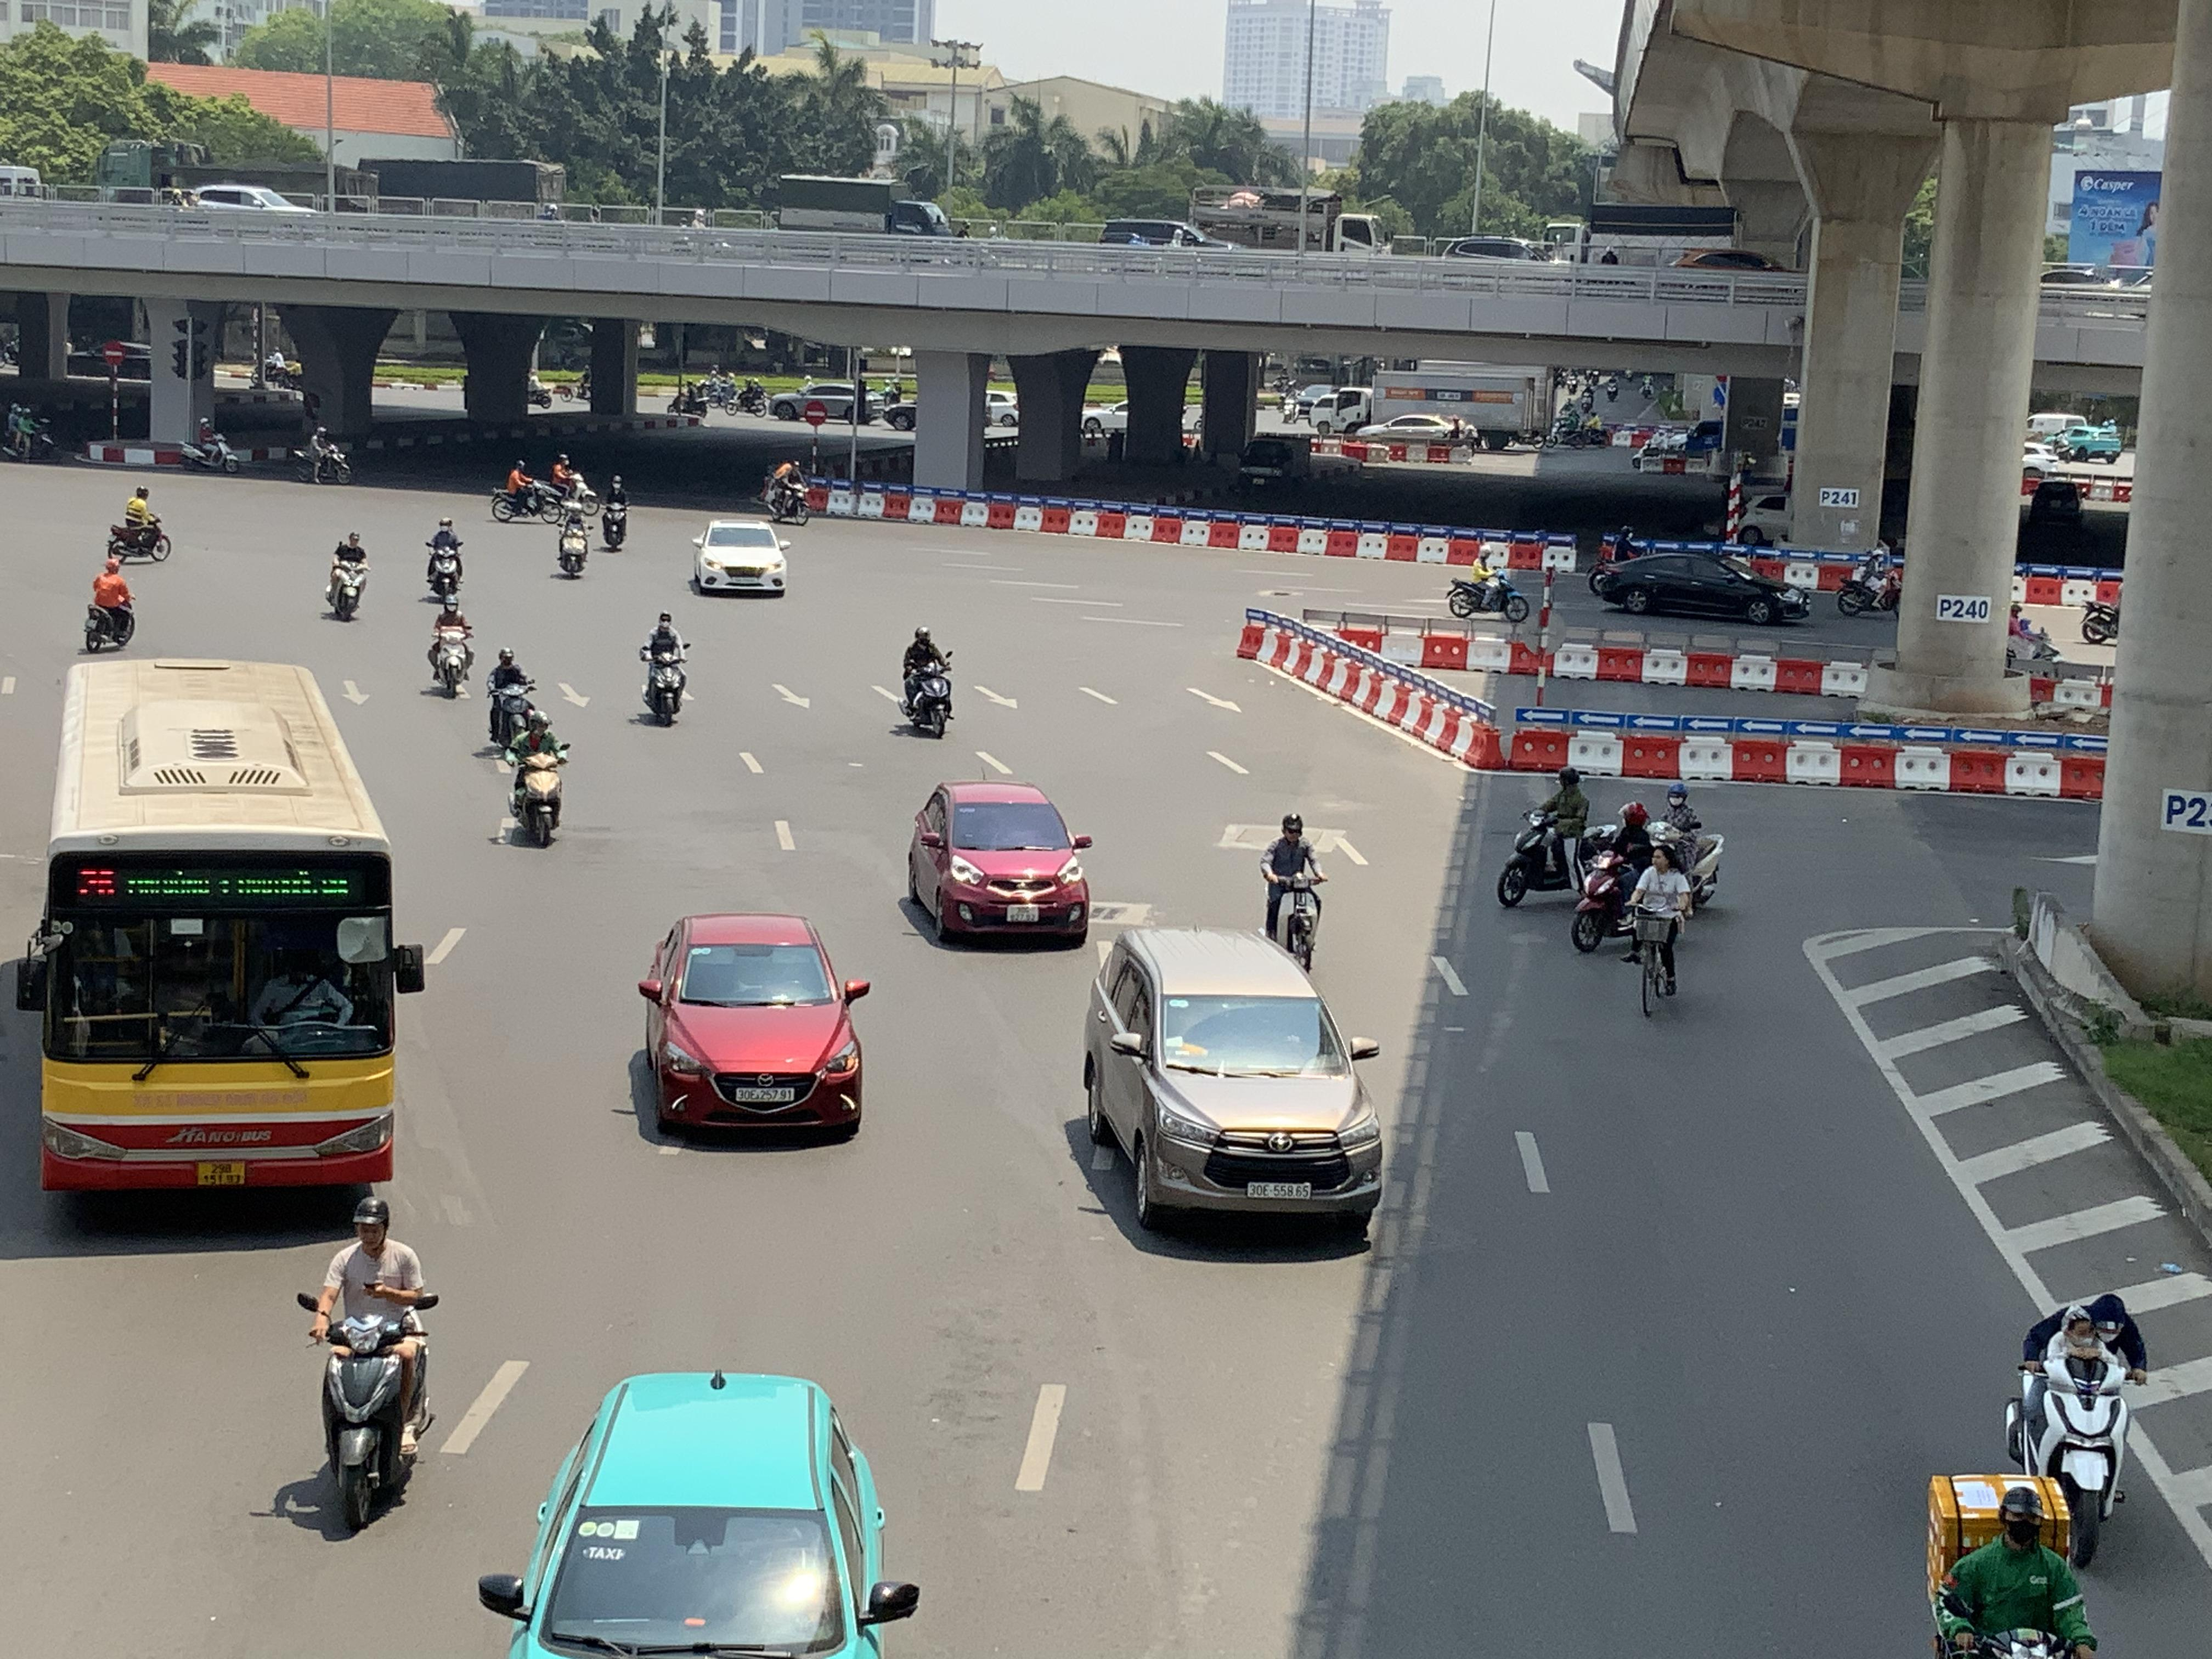BSD: (1247, 1180, 1312, 1199), (737, 1087, 794, 1101)
BSV: (199, 1161, 246, 1185), (1007, 904, 1038, 922)
bus: (16, 659, 425, 1201)
car: (477, 1370, 920, 1659), (1080, 925, 1383, 1236), (629, 911, 873, 1145), (902, 779, 1092, 948), (1594, 549, 1811, 622), (688, 519, 787, 596), (1101, 216, 1219, 247)
motorbike: (301, 1194, 439, 1537), (2005, 1293, 2146, 1568), (1928, 1476, 2099, 1659), (1571, 798, 1723, 955), (1498, 765, 1606, 908), (1571, 800, 1665, 953), (1627, 840, 1691, 1019), (1259, 812, 1325, 974), (500, 706, 570, 849), (482, 647, 543, 758), (1446, 542, 1529, 622), (897, 626, 953, 737), (637, 610, 690, 727), (82, 554, 136, 653), (106, 484, 172, 563), (427, 594, 475, 699), (1838, 540, 1904, 615), (489, 457, 563, 523), (322, 528, 369, 620), (181, 415, 242, 474), (293, 425, 352, 484), (423, 518, 465, 601), (761, 458, 810, 523), (545, 450, 596, 507), (556, 498, 589, 579), (599, 474, 631, 551)
truck: (777, 169, 946, 234)
